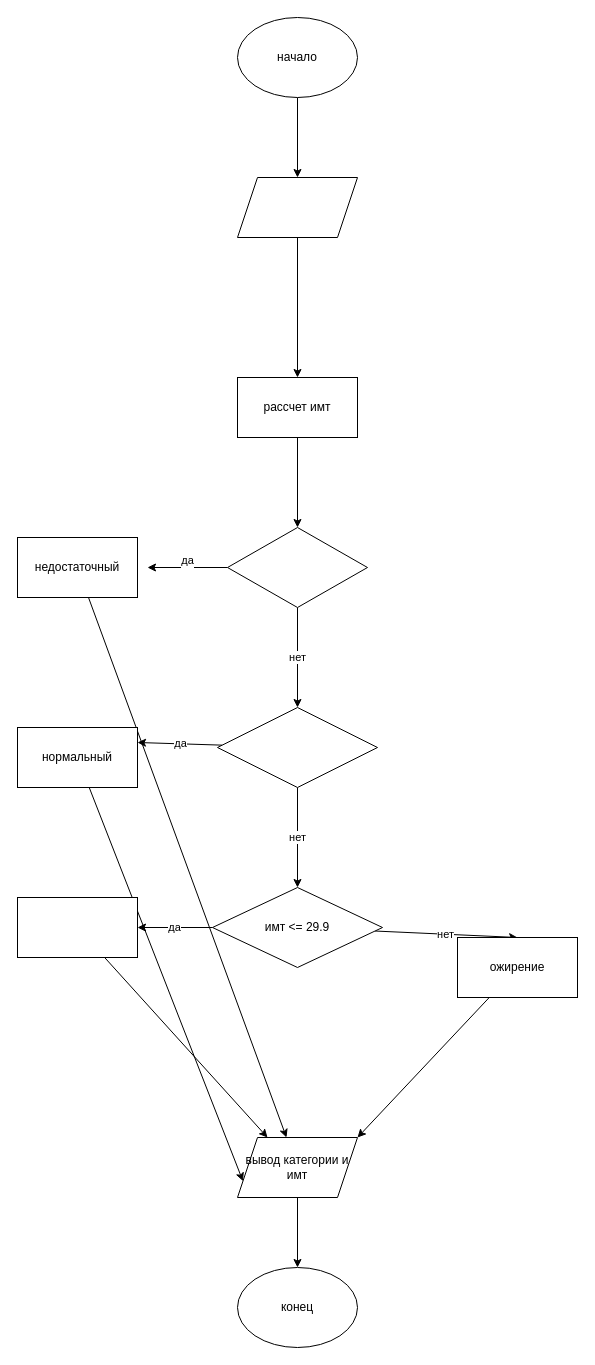
The diagram is 595 pixels wide and 1365 high, and some of its shapes have lost their labels. Here are the shapes that lost their labels. From the top down, the centre of each, then its label:
pixel 297 207: ввод параметров
pixel 297 567: имт < 18.5
pixel 297 747: имт <= 24.9
pixel 77 927: избыточный
